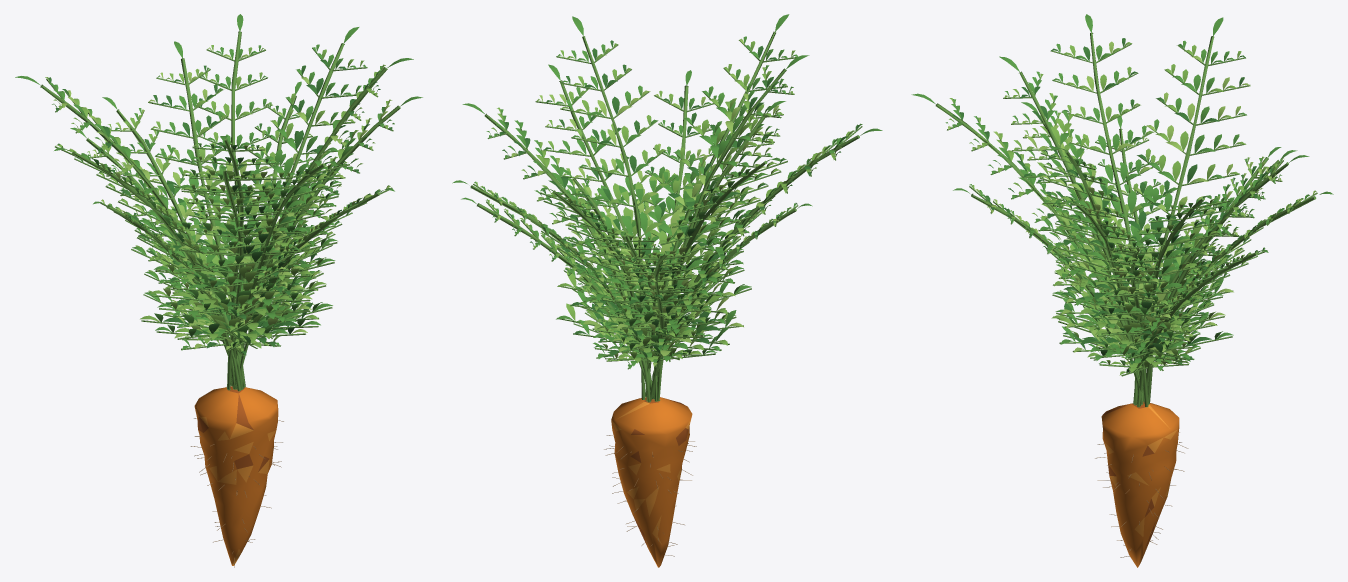
Rendered from carrot_plant.glb.
3 views of the same model, side by side, from view 1: azimuth 30°, elevation 25°; view 2: azimuth 150°, elevation 25°; view 3: azimuth 270°, elevation 25° (orthographic). The views are drawn at different scales.
Visible parts, largest first — view 1: OwnerCarrotPlant; view 2: OwnerCarrotPlant; view 3: OwnerCarrotPlant.
Boxes of the visible parts, <box> form: OwnerCarrotPlant: <box>15,14,422,567</box>; OwnerCarrotPlant: <box>452,14,882,567</box>; OwnerCarrotPlant: <box>911,14,1333,567</box>.
Bounding box in the file's own units: 0.8487 × 1.11 × 0.8838.
